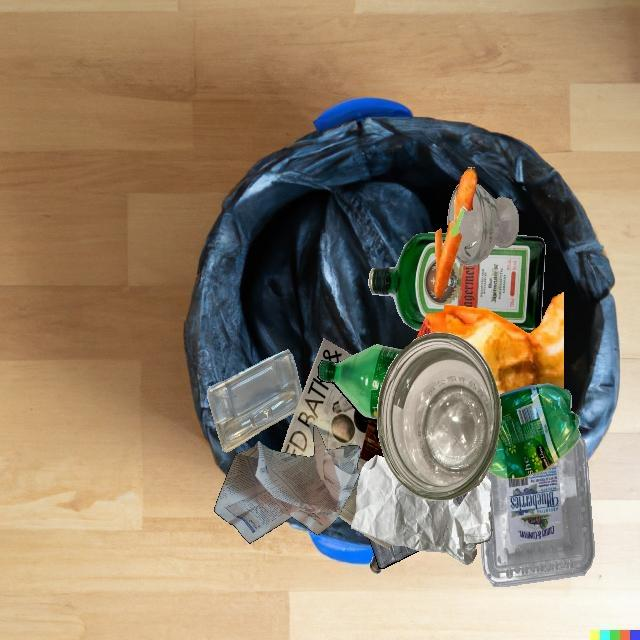biowaste: (417, 292, 564, 394), (434, 168, 478, 299)
glass: (377, 333, 502, 501), (368, 232, 546, 334), (456, 184, 519, 266), (370, 554, 383, 574)
paper: (281, 338, 385, 525), (214, 424, 361, 543), (351, 455, 492, 565)
plastic: (481, 436, 594, 587), (207, 349, 302, 452), (488, 383, 581, 478), (318, 344, 403, 421), (369, 538, 420, 569)
